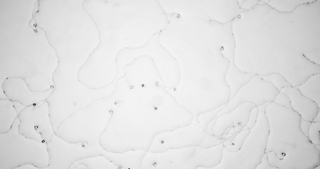germinated: (218, 43, 226, 56), (278, 149, 286, 161), (32, 124, 41, 134), (42, 83, 53, 91), (106, 109, 114, 119), (171, 11, 181, 19), (237, 121, 248, 128), (126, 80, 134, 89), (231, 14, 242, 20), (155, 80, 163, 88), (80, 141, 88, 149), (31, 19, 38, 28)
nongerminated: (139, 81, 146, 89), (151, 160, 158, 167), (152, 105, 159, 111), (112, 100, 119, 106), (31, 101, 38, 107), (39, 138, 45, 144), (230, 141, 236, 147), (160, 139, 166, 144)
